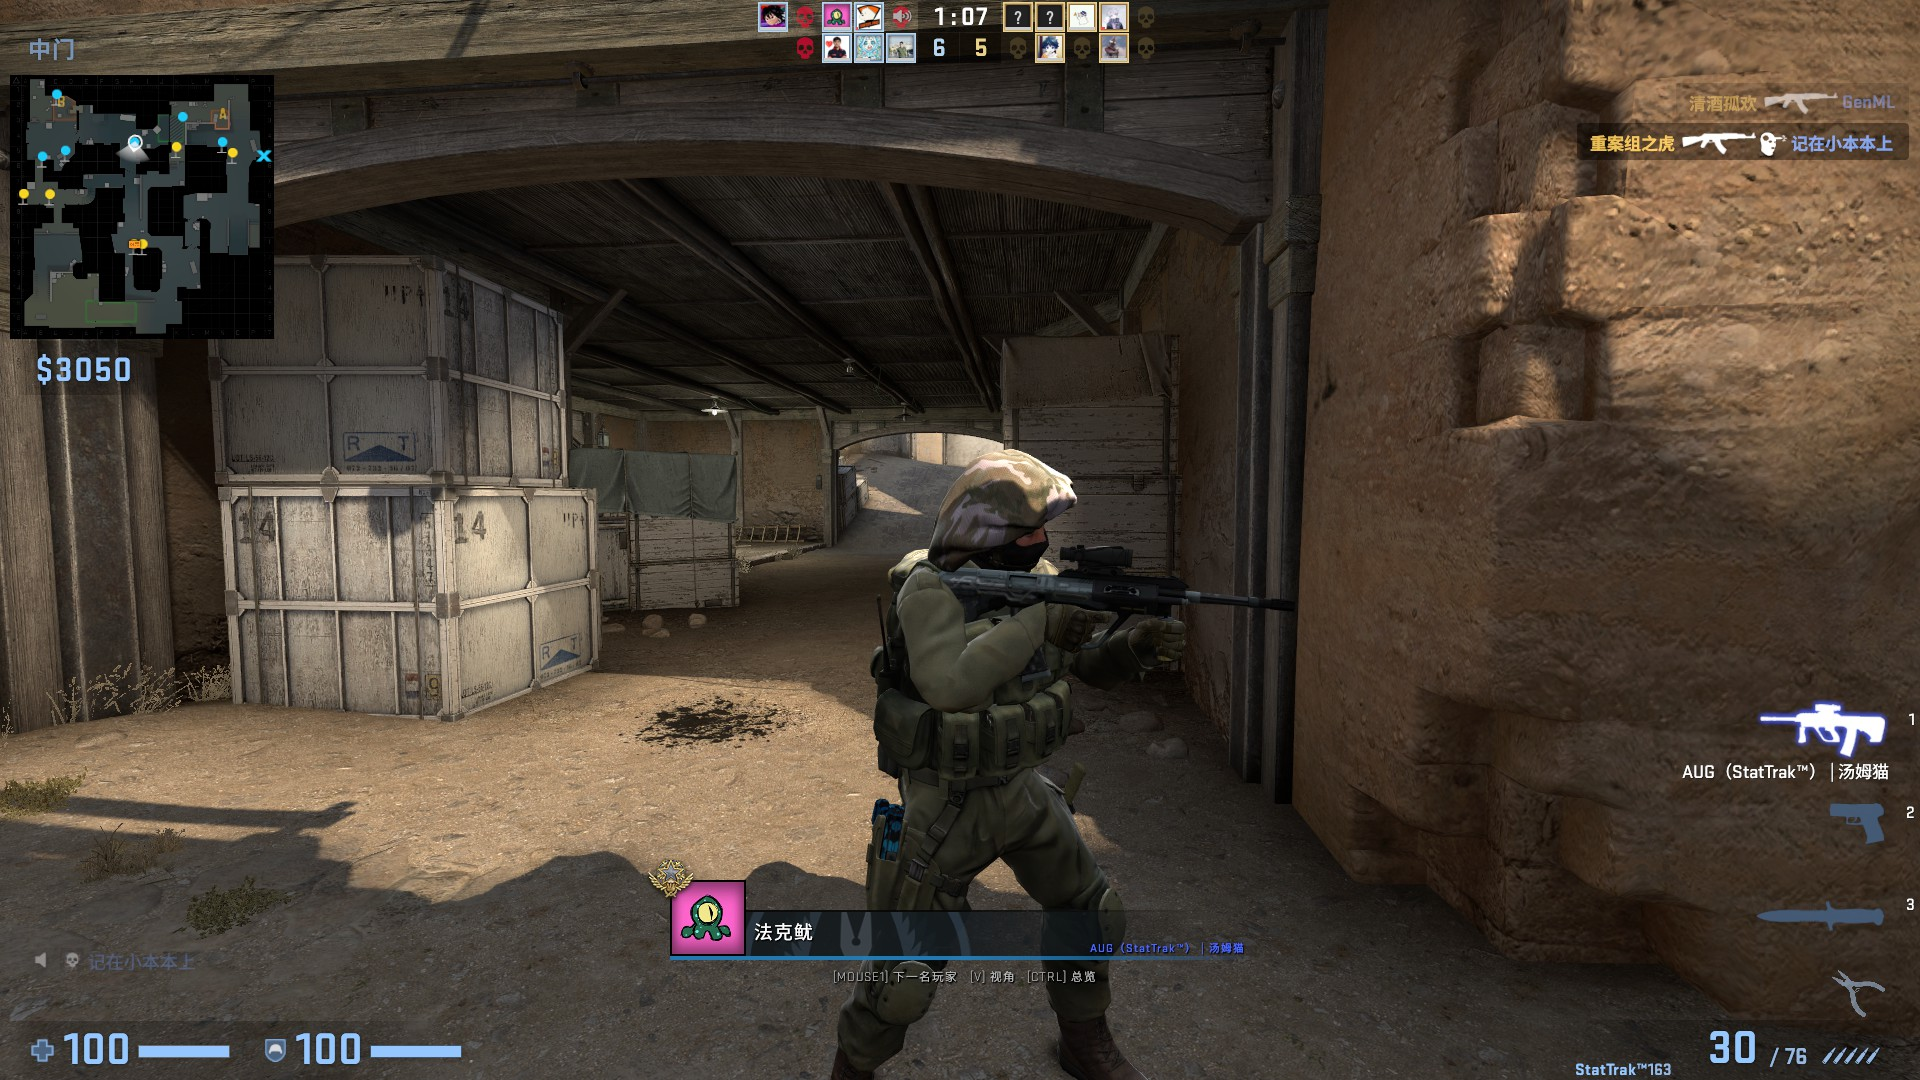head: (939, 446, 1073, 575)
